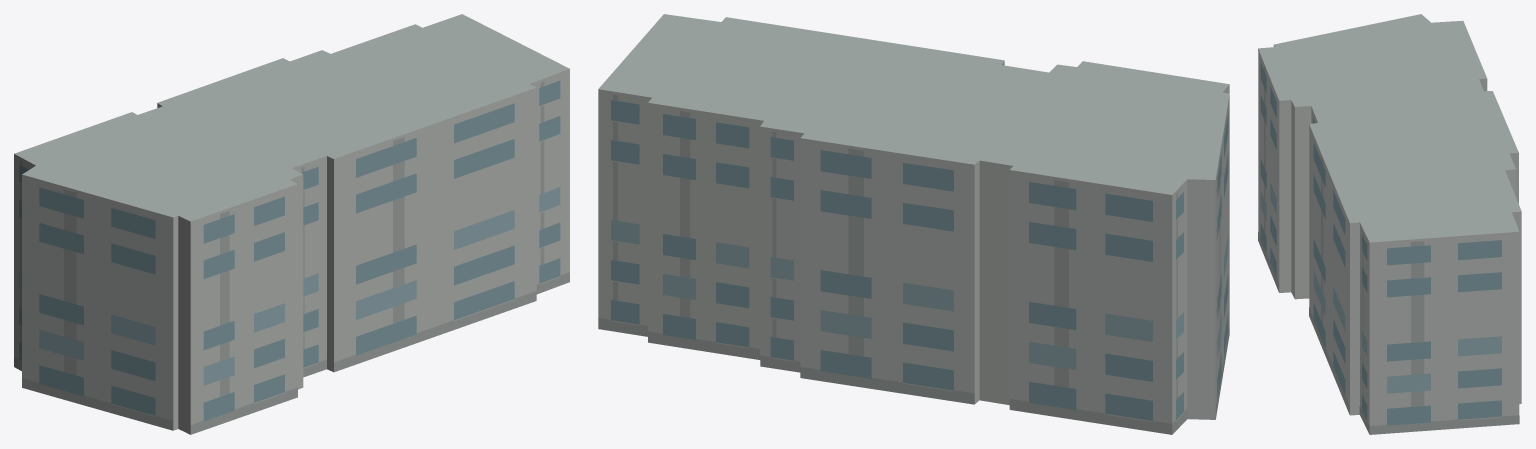
Rendered from survey-upis-32840698.glb.
The picture shows the model from 3 angles, left to right: view 1: azimuth 30°, elevation 25°; view 2: azimuth 150°, elevation 25°; view 3: azimuth 270°, elevation 25°; orthographic projection. The views are drawn at different scales.
Parts seen in each view (by area): view 1: survey-upis-32840698.tmp; view 2: survey-upis-32840698.tmp; view 3: survey-upis-32840698.tmp.
Part boxes in pixels (x1,y1,x2,y2): survey-upis-32840698.tmp: (14,14,569,434); survey-upis-32840698.tmp: (598,14,1229,434); survey-upis-32840698.tmp: (1258,14,1521,434).
Bounding box in the file's own units: 46.88 × 18.4 × 22.86.
